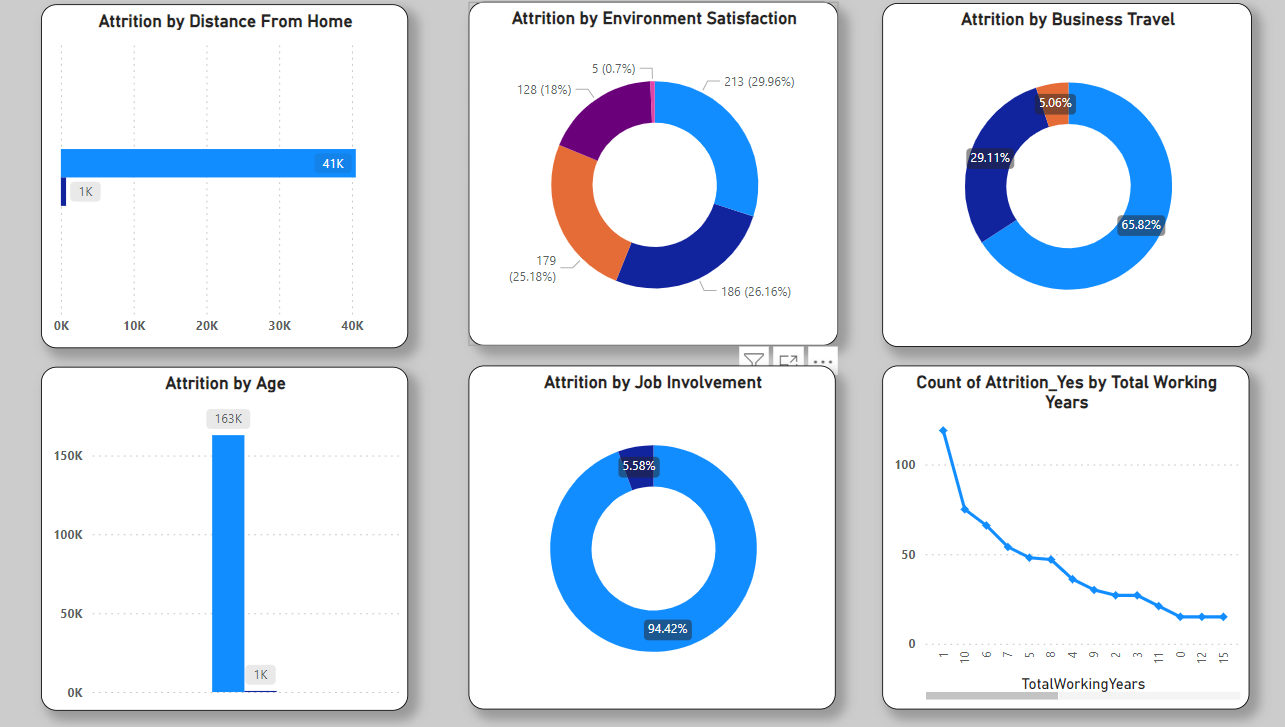

What the dashboard file says about the page in this screenshot:
{"tool":"powerbi","page":{"name":"Page 3","canvas":[1280,720],"ordinal":2},"visuals":[{"type":"clusteredBarChart","title":"Attrition by Distance From Home","fields":{"Y":["Sum(Attrition data.DistanceFromHome)","Sum(Attrition data.Attrition_Yes)"]},"box":[48.3,10.9,354.7,331.8],"z":0},{"type":"donutChart","title":"Attrition by Environment Satisfaction","fields":{"Y":["Sum(Attrition data.Attrition_Yes)"],"Category":["Attrition data.EnvironmentSatisfaction"]},"box":[460.9,8.4,357.1,331.8],"z":1},{"type":"donutChart","title":"Attrition  by Business Travel","fields":{"Y":["Sum(Attrition data.Attrition_Yes)"],"Category":["Attrition data.BusinessTravel"]},"box":[860.2,9.7,357.1,331.8],"z":2},{"type":"clusteredColumnChart","title":"Attrition by Age","fields":{"Y":["Sum(Attrition data.Age)","Sum(Attrition data.Attrition_Yes)"]},"box":[48.3,360.7,354.7,331.8],"z":3},{"type":"donutChart","title":"Attrition by Job Involvement","fields":{"Y":["Sum(Attrition data.JobInvolvement)","Sum(Attrition data.Attrition_Yes)"]},"box":[460.9,359.5,354.7,331.8],"z":4},{"type":"lineChart","title":"Count of Attrition_Yes by Total Working Years","fields":{"Y":["Sum(Attrition data.Attrition_Yes)"],"Category":["Attrition data.TotalWorkingYears"]},"box":[860.2,359.5,354.7,331.8],"z":5}]}

Visuals, with their boxes in screenshot pixels (x1, y1, x2, y2), scaled from the page's 1280x720 canvas onto the 1285x727 screenshot:
"Attrition by Distance From Home" clusteredBarChart: {"x1": 48, "y1": 11, "x2": 405, "y2": 346}
"Attrition by Environment Satisfaction" donutChart: {"x1": 463, "y1": 8, "x2": 821, "y2": 344}
"Attrition  by Business Travel" donutChart: {"x1": 864, "y1": 10, "x2": 1222, "y2": 345}
"Attrition by Age" clusteredColumnChart: {"x1": 48, "y1": 364, "x2": 405, "y2": 699}
"Attrition by Job Involvement" donutChart: {"x1": 463, "y1": 363, "x2": 819, "y2": 698}
"Count of Attrition_Yes by Total Working Years" lineChart: {"x1": 864, "y1": 363, "x2": 1220, "y2": 698}
